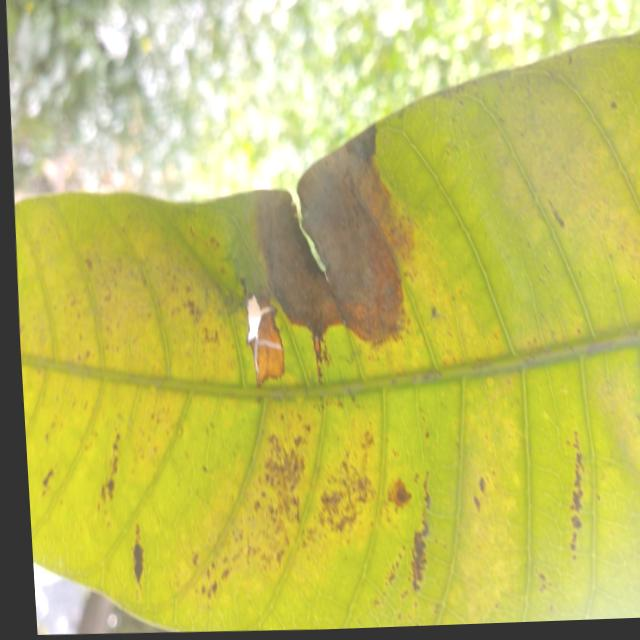Bacterial Cancer: (254, 145, 385, 321)
